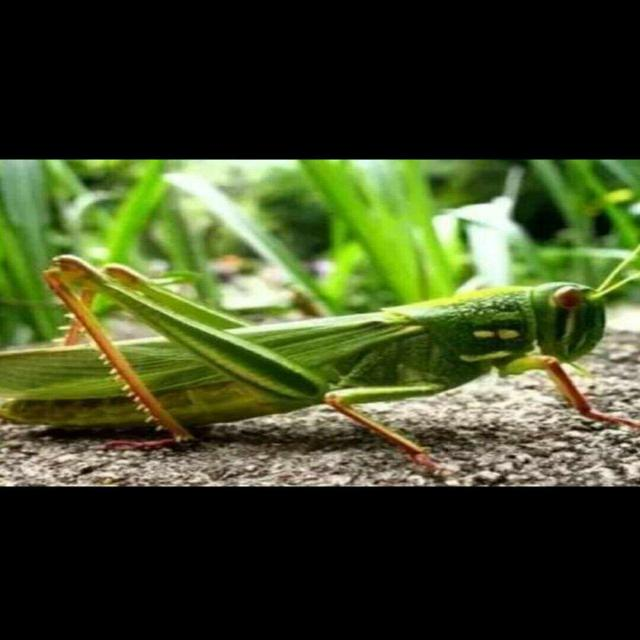ZhaMeng: (16, 255, 615, 454)
